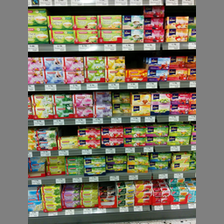tea: (98, 13, 120, 41), (104, 54, 125, 81), (63, 56, 84, 82), (73, 93, 92, 117), (78, 126, 98, 148), (85, 157, 105, 174)
